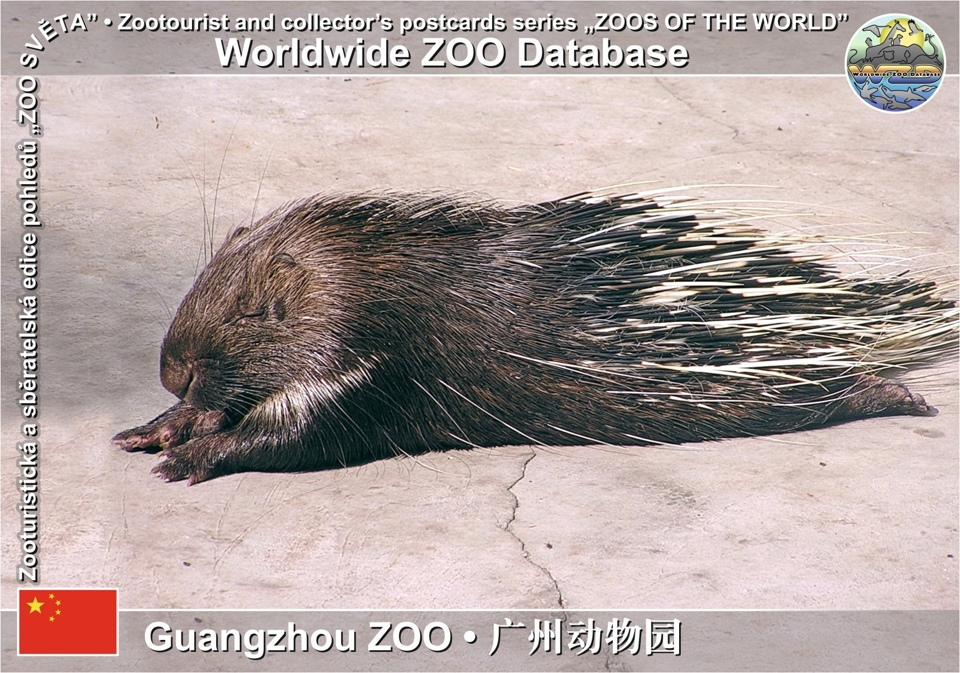porcupine: (108, 176, 960, 505)
